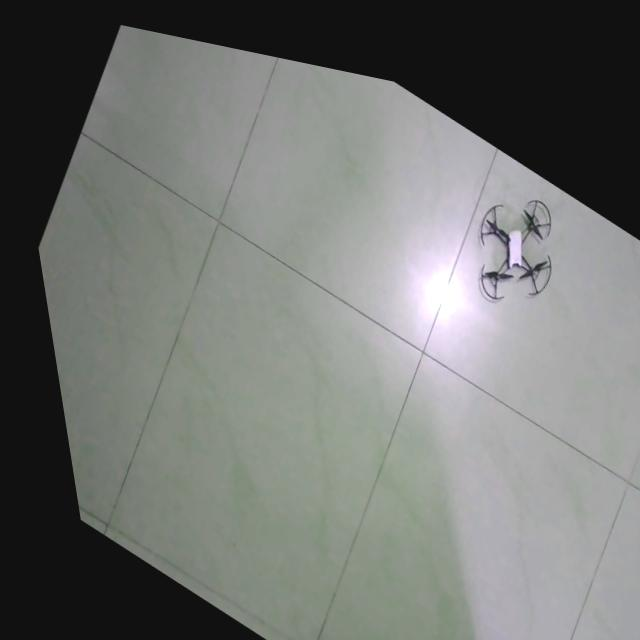drone: (474, 176, 548, 280)
